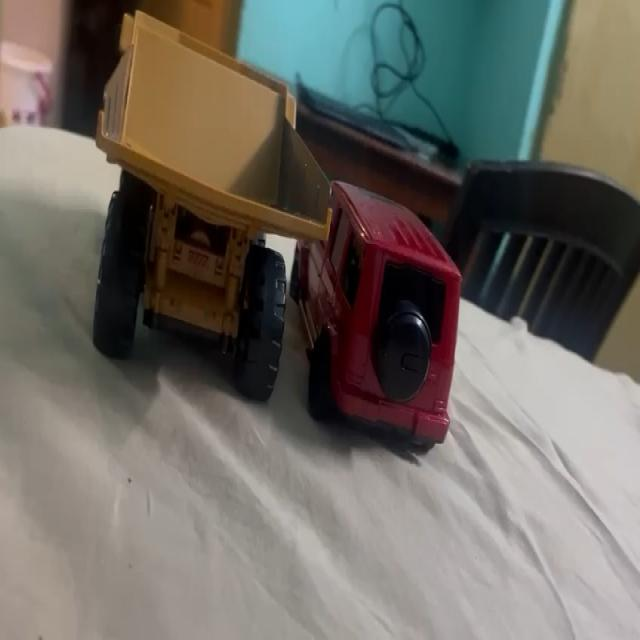dump_truck: (86, 6, 304, 408)
light_vehicle: (333, 196, 460, 444)
